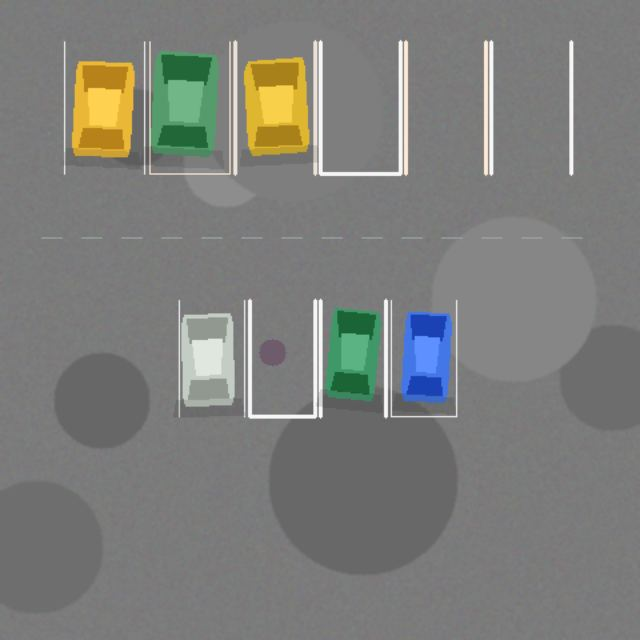space-empty: (320, 41, 400, 173), (405, 41, 485, 173), (491, 41, 571, 173), (249, 300, 315, 416)
space-occupied: (64, 41, 144, 173), (149, 41, 229, 173), (235, 41, 315, 173), (179, 300, 244, 416), (320, 300, 385, 416), (391, 300, 456, 416)
